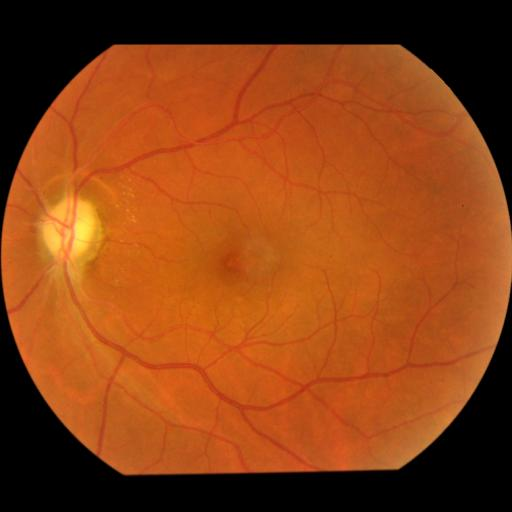Optic Disc: (41, 197, 103, 263)
